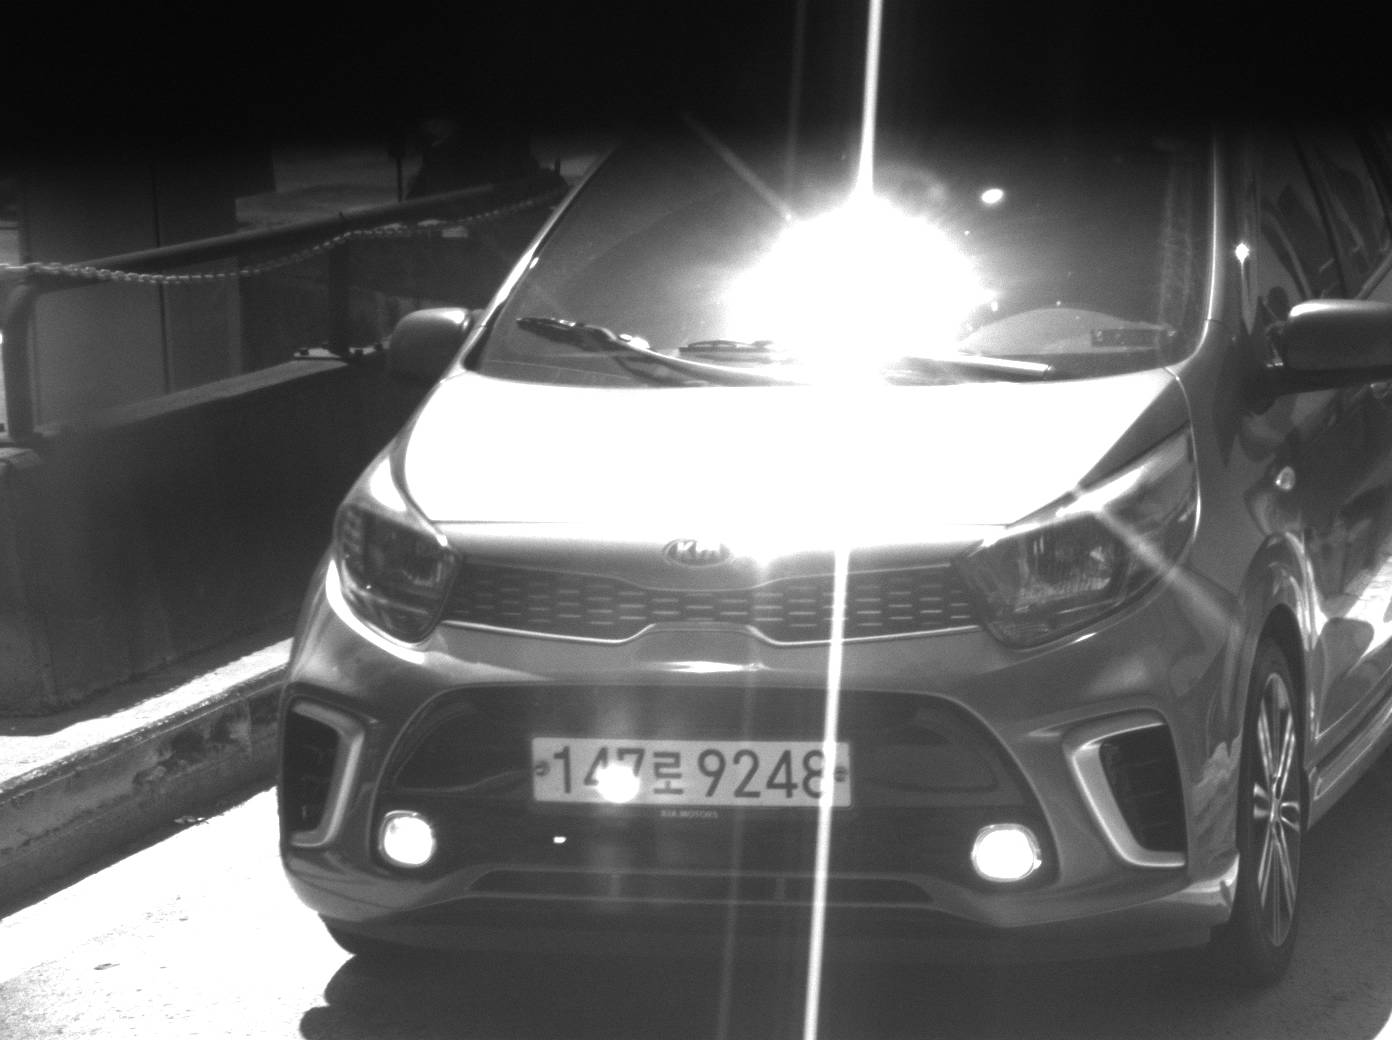car: (277, 127, 1392, 986)
plate: (528, 734, 852, 805)
